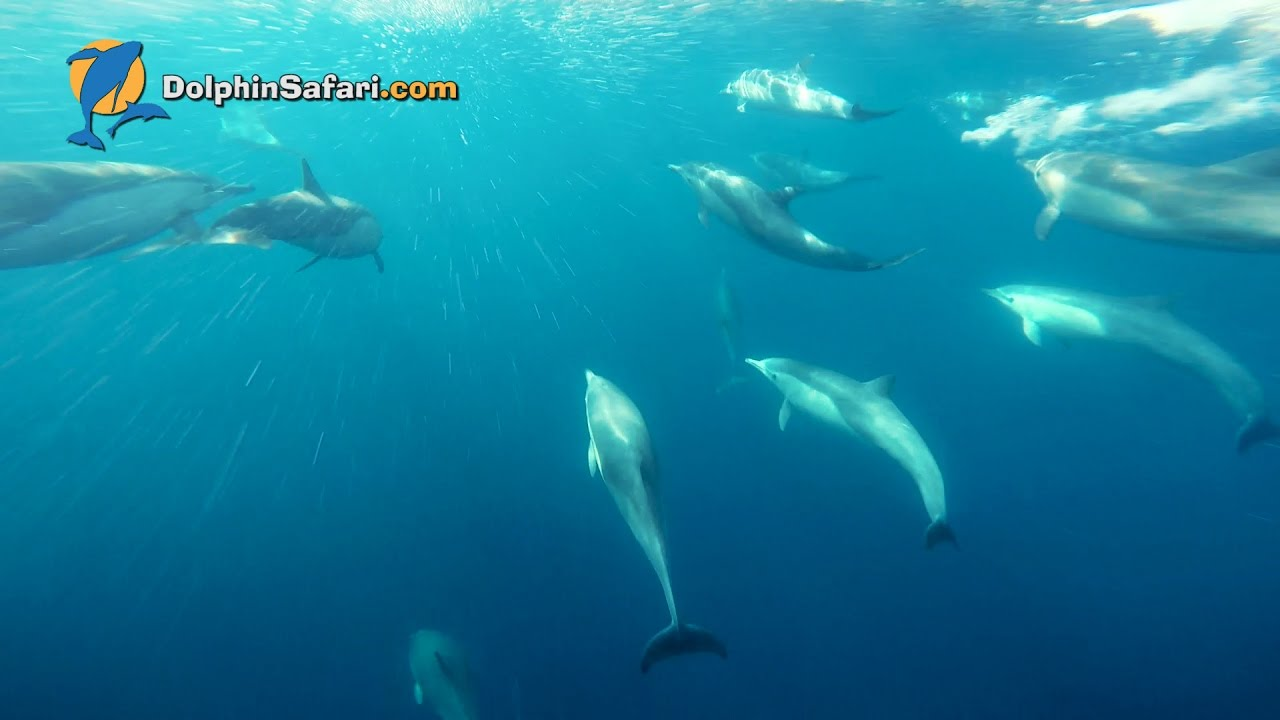dolphin: (730, 339, 1009, 558), (558, 359, 749, 674), (971, 263, 1275, 447), (664, 149, 924, 296), (1001, 134, 1280, 251), (201, 165, 451, 293)
